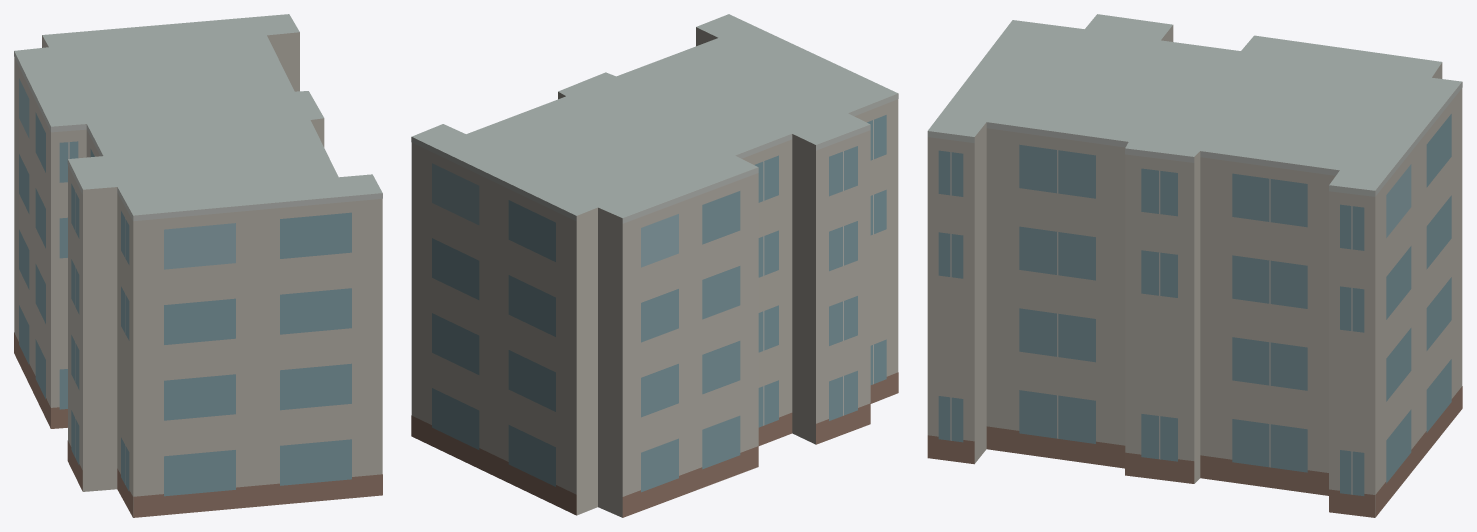
File: survey-upis-32604591.glb
The picture shows the model from 3 angles, left to right: view 1: azimuth 30°, elevation 25°; view 2: azimuth 150°, elevation 25°; view 3: azimuth 270°, elevation 25°; orthographic projection. The views are drawn at different scales.
Visible parts, largest first — view 1: survey-upis-32604591.tmp; view 2: survey-upis-32604591.tmp; view 3: survey-upis-32604591.tmp.
Boxes of the visible parts, <box> form: survey-upis-32604591.tmp: <box>14,14,382,517</box>; survey-upis-32604591.tmp: <box>411,14,898,517</box>; survey-upis-32604591.tmp: <box>927,14,1462,517</box>.
Bounding box in the file's own units: 15.14 × 13.05 × 19.35.
